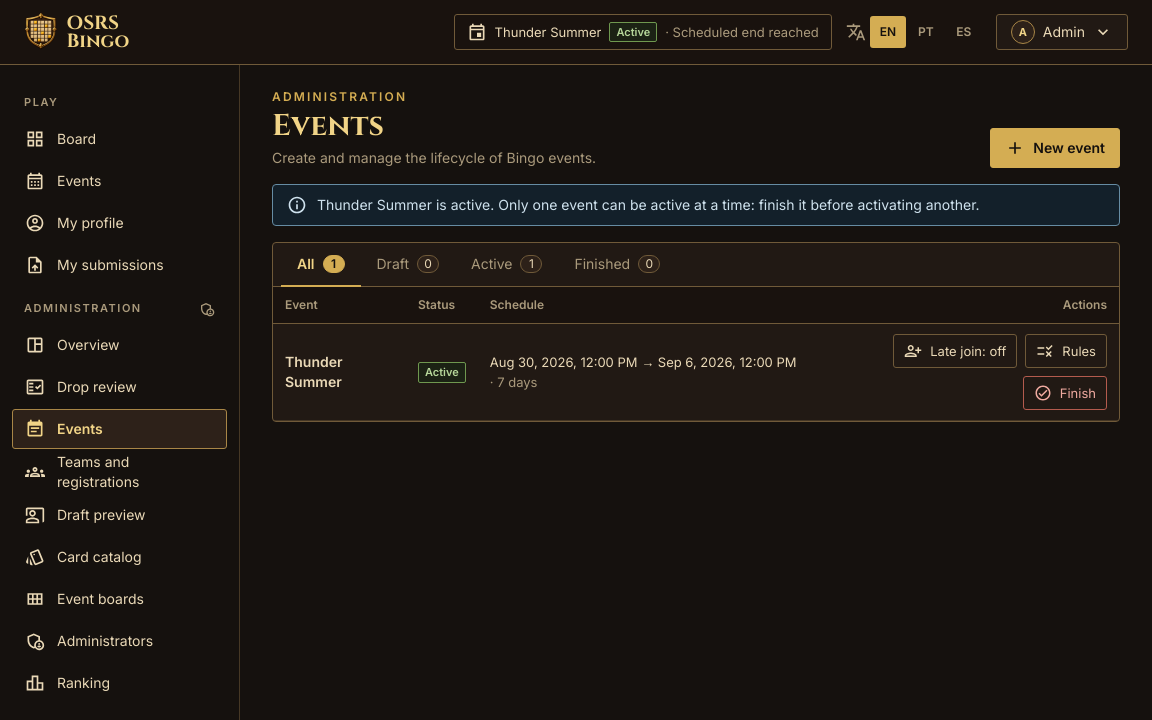
Test: Events feature › switches late join on for the active event (037)
Click the button with aria-label "Late join: off · Thunder Summer" at coordinates (955, 351), box [893, 334, 1017, 368]
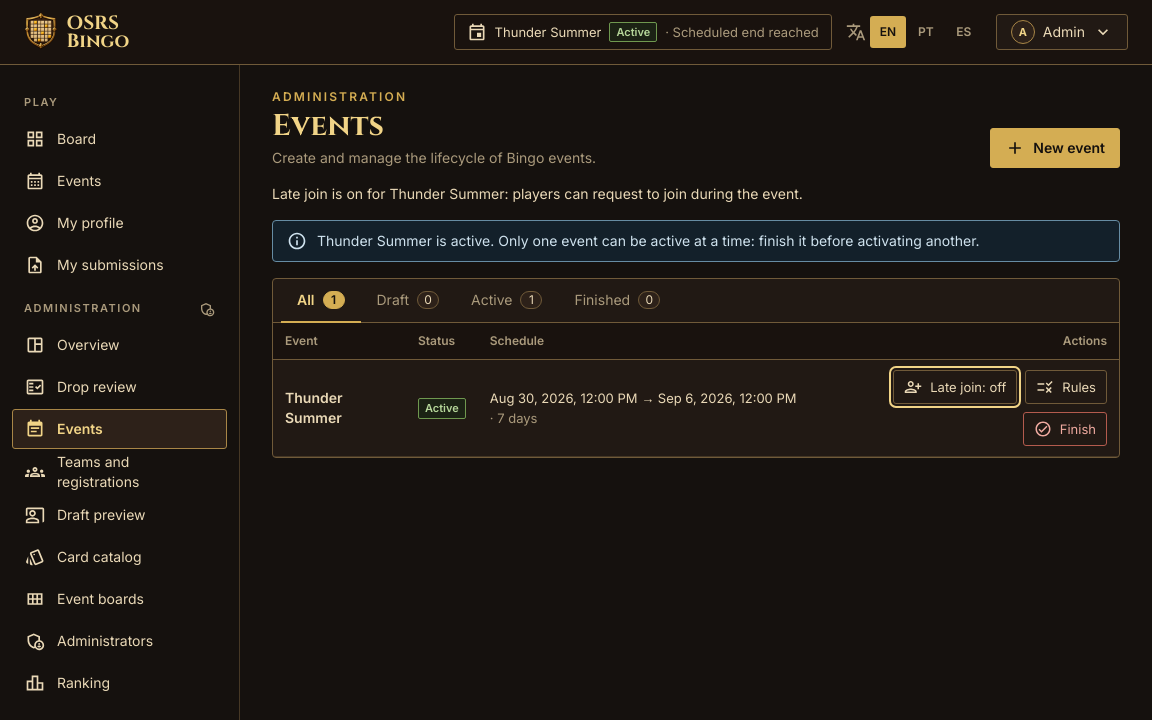
Now the text "Late join is on for Thunder Summer" is shown, box [272, 185, 803, 202]
